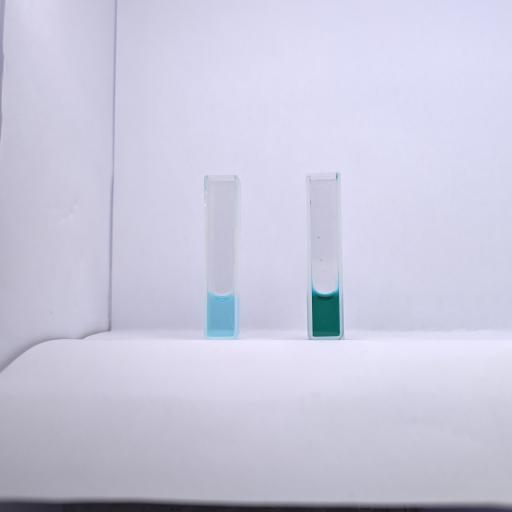cuvette: (304, 171, 346, 343), (201, 172, 240, 342)
liquid: (312, 292, 340, 336), (206, 293, 234, 336)
